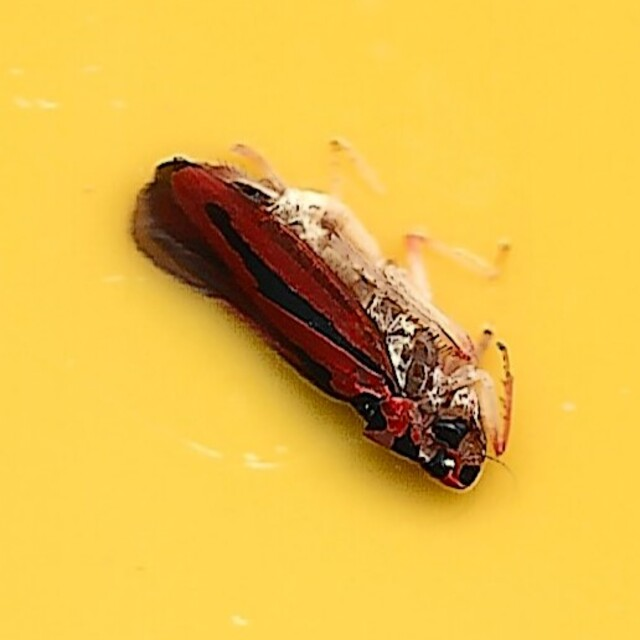Hemiptera: (124, 140, 516, 500)
